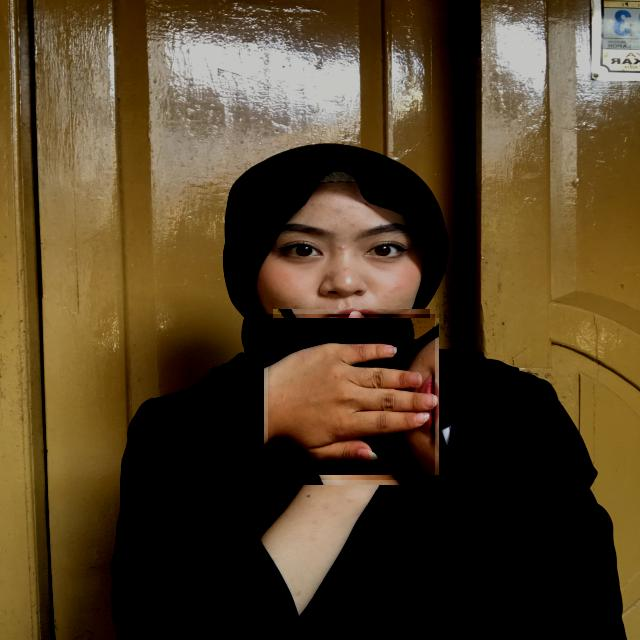ganteng: (268, 314, 435, 480)
